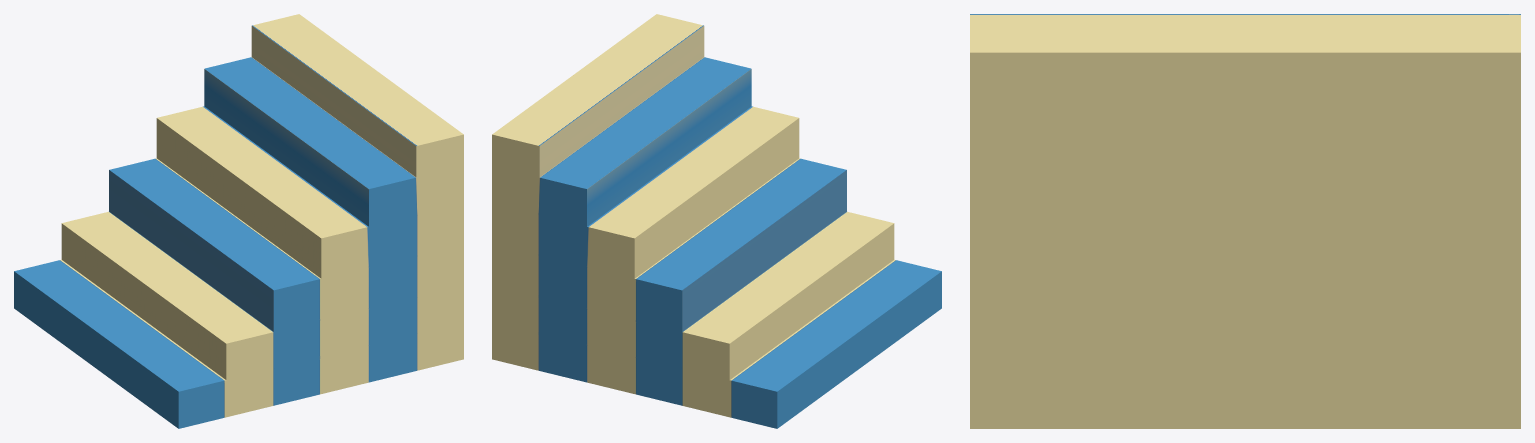
The model's file is M_staire.fbx.
The picture shows the model from 3 angles, left to right: view 1: azimuth 30°, elevation 25°; view 2: azimuth 150°, elevation 25°; view 3: azimuth 270°, elevation 25°; orthographic projection. The views are drawn at different scales.
Visible parts, largest first — view 1: Cube.018; view 2: Cube.018; view 3: Cube.018.
Part boxes in pixels (x1,y1,x2,y2): Cube.018: (14,14,463,428); Cube.018: (492,14,941,428); Cube.018: (970,14,1520,428).
Size of the model in its own units: 200 by 151 by 200.
